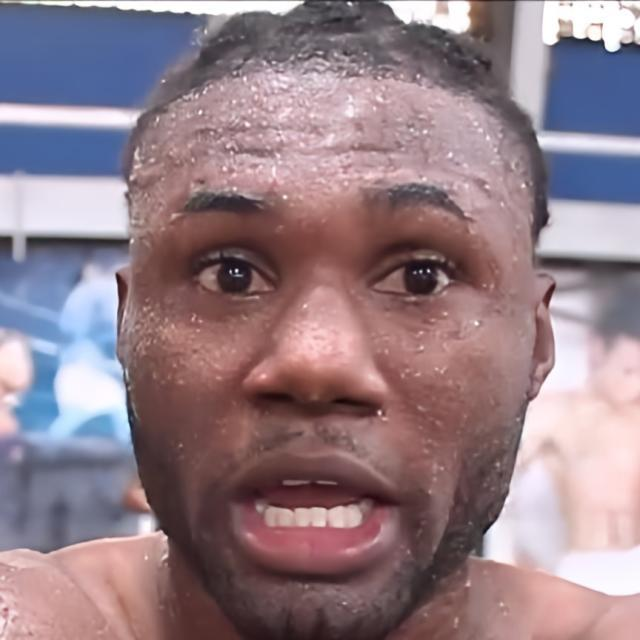happy: (119, 69, 533, 640)
surprise: (603, 342, 640, 402)
